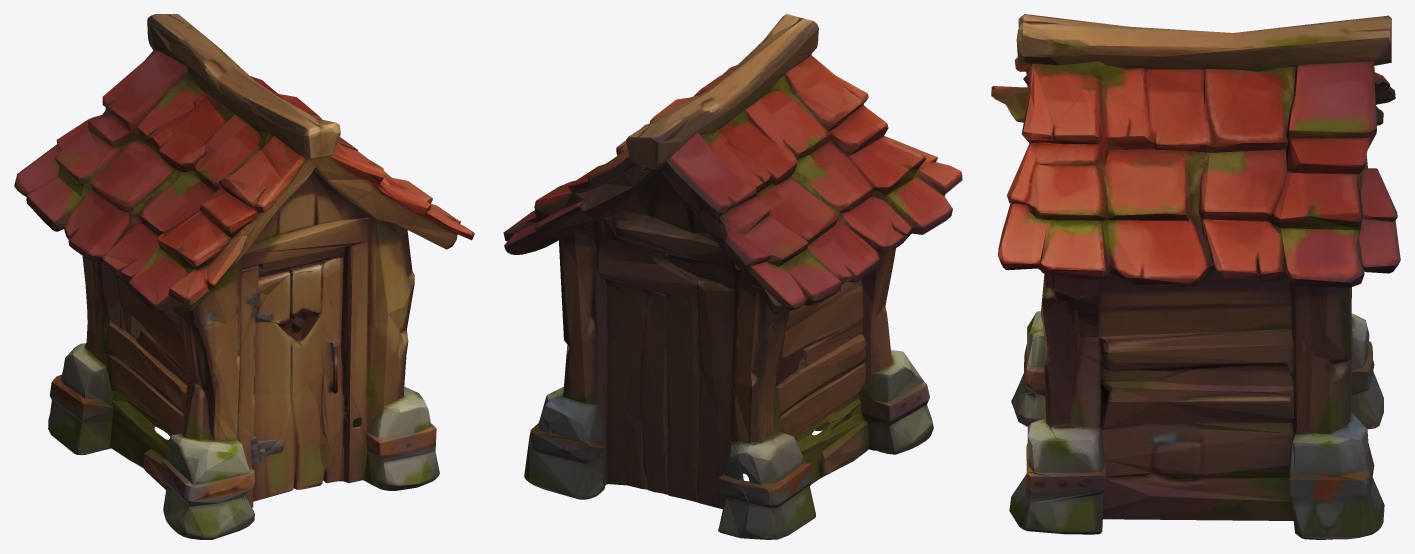
The model's file is outhouse_red.glb.
3 renders of one model, left to right at view 1: azimuth 30°, elevation 25°; view 2: azimuth 150°, elevation 25°; view 3: azimuth 270°, elevation 25°, orthographic. The views are drawn at different scales.
Visible parts, largest first — view 1: world; view 2: world; view 3: world.
Part boxes in pixels (<box>): world: <box>14,14,474,539</box>; world: <box>503,14,962,539</box>; world: <box>991,14,1400,539</box>.
Size of the model in its own units: 0.852 by 0.9968 by 0.8282.
Materials: 1 (1 with a texture image).
